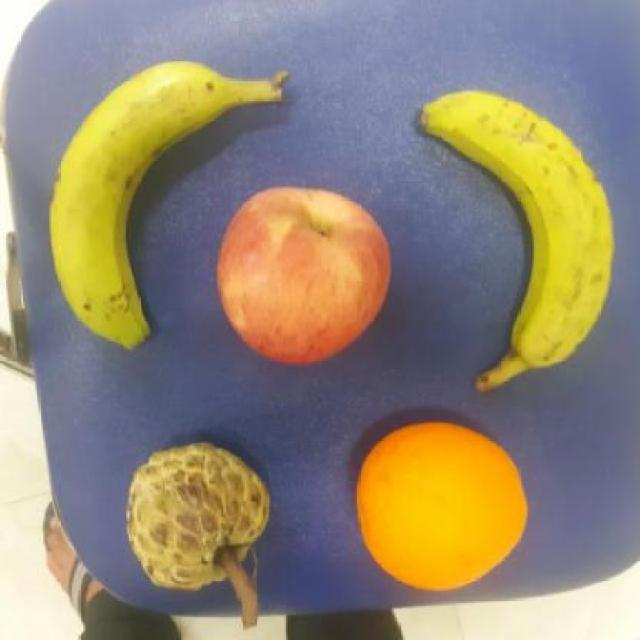apple: (212, 182, 394, 360)
banana: (381, 82, 614, 376), (41, 48, 221, 355)
oren: (352, 414, 532, 594)
sugar apple: (121, 442, 277, 602)
